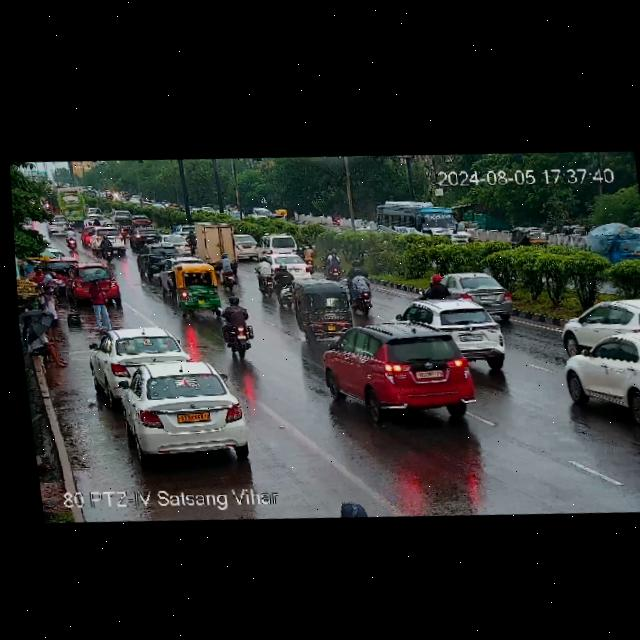bus: (373, 194, 461, 248), (55, 187, 91, 223)
car: (323, 314, 486, 430), (103, 354, 254, 466), (388, 291, 511, 370), (557, 327, 640, 430), (91, 323, 191, 387), (278, 276, 359, 340), (425, 266, 520, 316), (555, 292, 640, 343), (174, 257, 229, 321), (69, 261, 121, 306), (593, 226, 640, 266), (80, 225, 127, 254), (261, 250, 313, 276), (510, 224, 557, 251), (259, 232, 301, 257), (232, 232, 268, 260), (136, 241, 187, 258), (156, 258, 176, 299), (46, 215, 78, 235), (160, 232, 193, 251), (131, 225, 163, 240), (126, 213, 156, 228), (250, 204, 270, 220), (111, 209, 134, 222), (88, 205, 106, 218), (175, 222, 194, 234), (116, 221, 127, 237)
motorcycle: (215, 294, 259, 358), (345, 268, 383, 314), (261, 262, 297, 300), (323, 246, 346, 278), (96, 234, 117, 260), (423, 273, 445, 296), (63, 226, 80, 252), (92, 217, 103, 228)
person: (23, 329, 72, 367), (36, 279, 65, 338), (88, 278, 113, 327), (329, 499, 376, 519)
truck: (185, 217, 245, 267)
